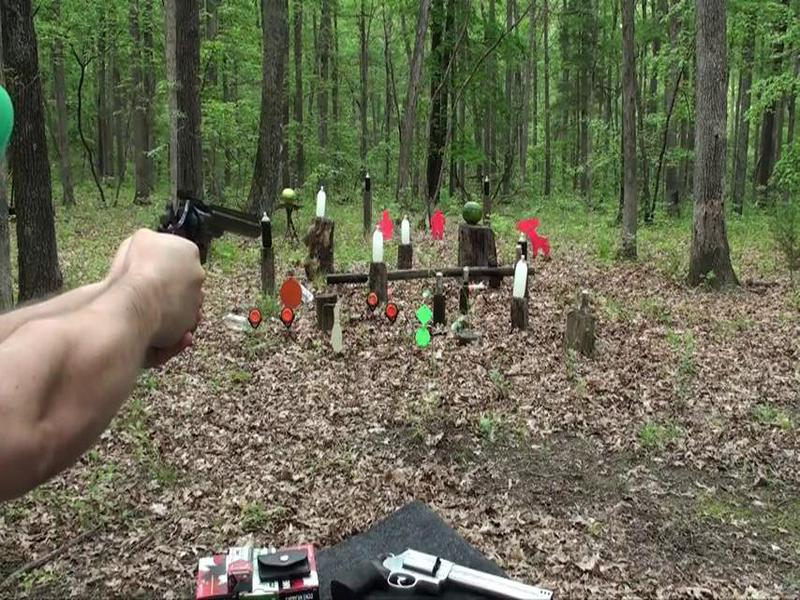Revolver: (137, 192, 289, 286)
